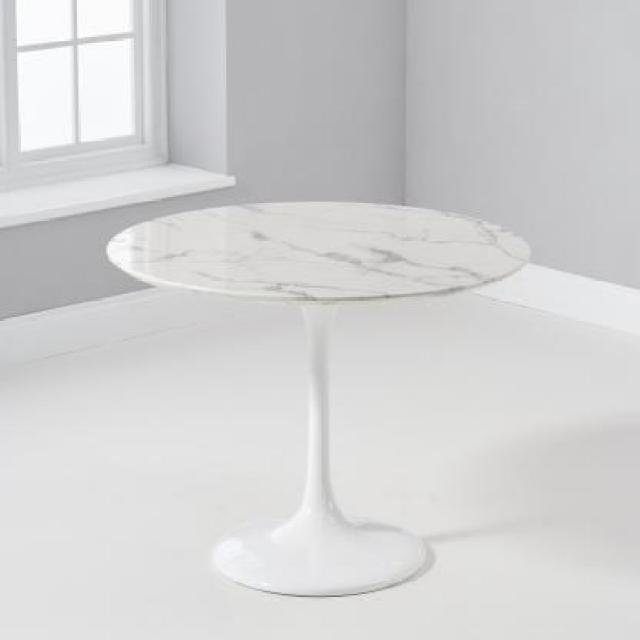table: (105, 196, 566, 592)
